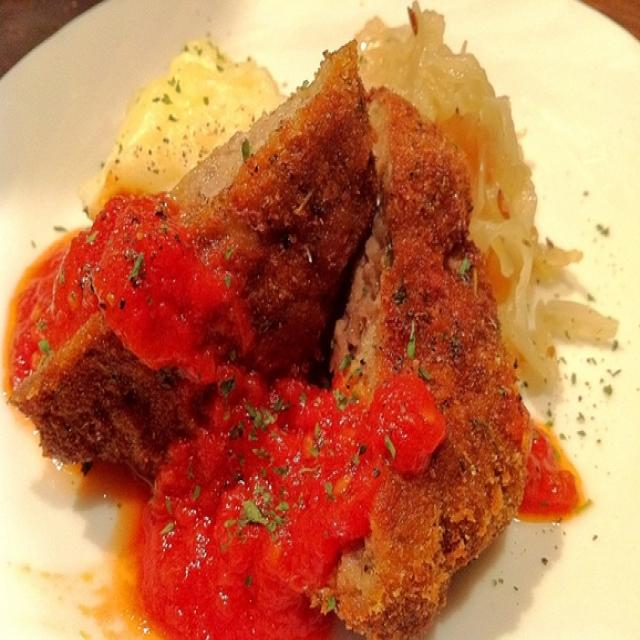炸货点心: (30, 45, 609, 631)
